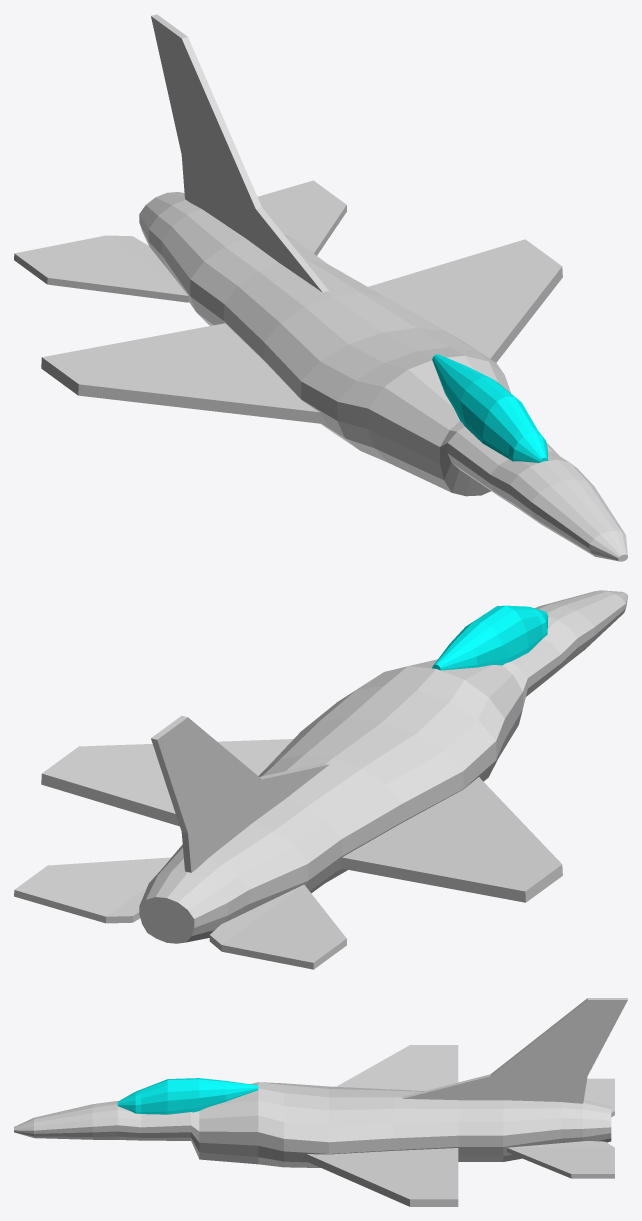
3 views of the same model, one above another, from view 1: azimuth 30°, elevation 25°; view 2: azimuth 150°, elevation 25°; view 3: azimuth 270°, elevation 25° (orthographic). The views are drawn at different scales.
Visible parts, largest first — view 1: Cylinder; view 2: Cylinder; view 3: Cylinder.
Boxes of the visible parts, box(x1,y1,x2,y2) form: Cylinder: box(14, 14, 627, 561); Cylinder: box(14, 590, 627, 969); Cylinder: box(14, 998, 627, 1206).
Size of the model in its own units: 227 by 108 by 380.
